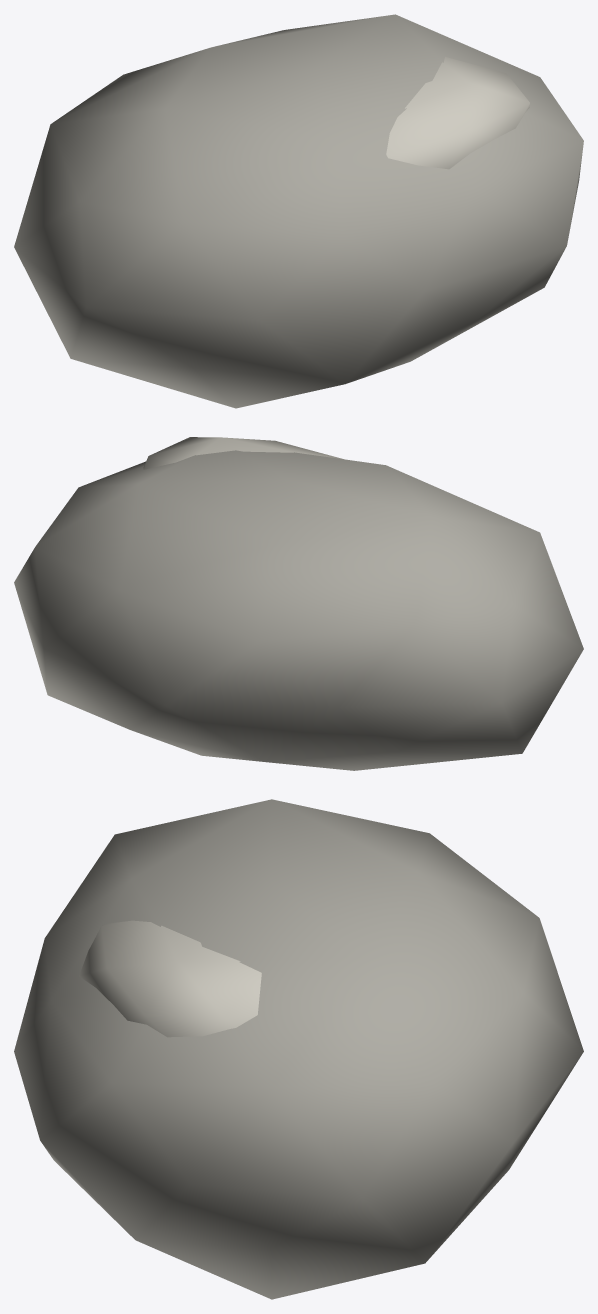
Rendered from Rock.fbx.
The picture shows the model from 3 angles, top to bottom: view 1: azimuth 30°, elevation 25°; view 2: azimuth 150°, elevation 25°; view 3: azimuth 270°, elevation 25°; orthographic projection. The views are drawn at different scales.
Parts seen in each view (by area): view 1: Rock; view 2: Rock; view 3: Rock.
Part boxes in pixels (box(x1,y1,x2,y2)): Rock: box(14, 14, 583, 408); Rock: box(14, 437, 583, 770); Rock: box(14, 799, 583, 1299).
Bounding box in the file's own units: 0.9033 × 0.4661 × 0.7174.
1 material, 1 textured.
